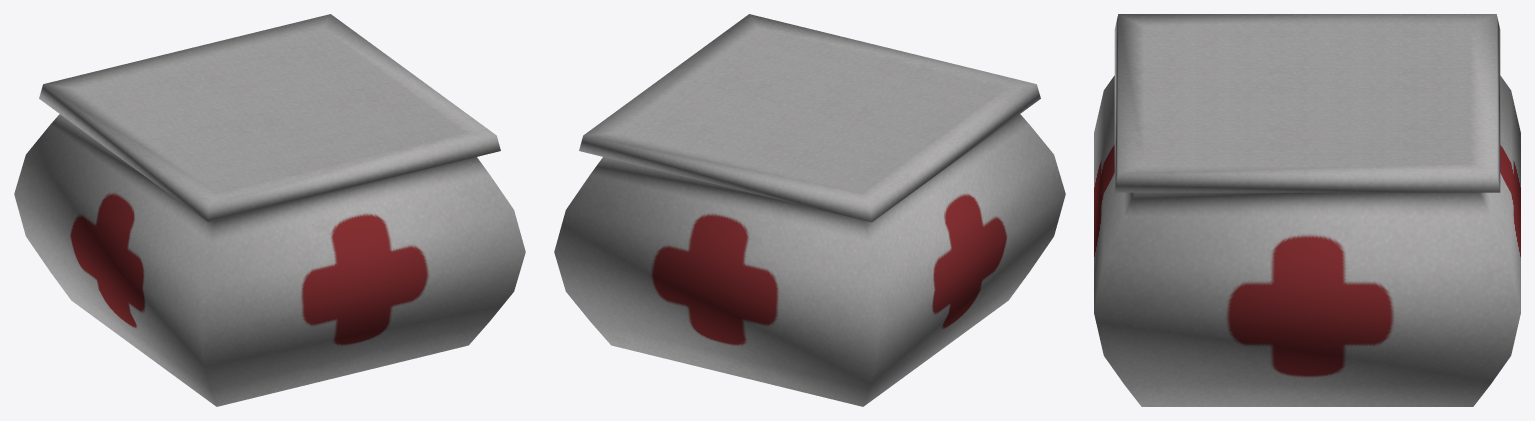
Rendered from Pedestal.glb.
The picture shows the model from 3 angles, left to right: view 1: azimuth 30°, elevation 25°; view 2: azimuth 150°, elevation 25°; view 3: azimuth 270°, elevation 25°; orthographic projection. The views are drawn at different scales.
Visible parts, largest first — view 1: Cube; view 2: Cube; view 3: Cube.
Boxes of the visible parts, x1,y1,x2,y2 form: Cube: (14, 14, 525, 406); Cube: (554, 14, 1065, 406); Cube: (1094, 14, 1520, 406).
Size of the model in its own units: 1.24 by 0.7763 by 1.24.
Materials: 1 (1 with a texture image).
